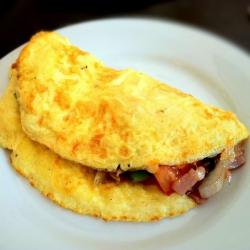omelette: (3, 30, 243, 229)
